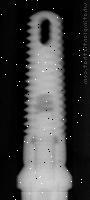Zimmer: (17, 9, 73, 192)
